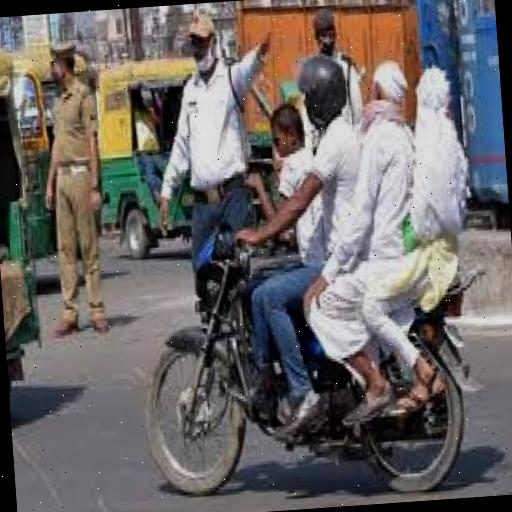helmet: (288, 44, 354, 160)
triple riding: (126, 34, 486, 448)
